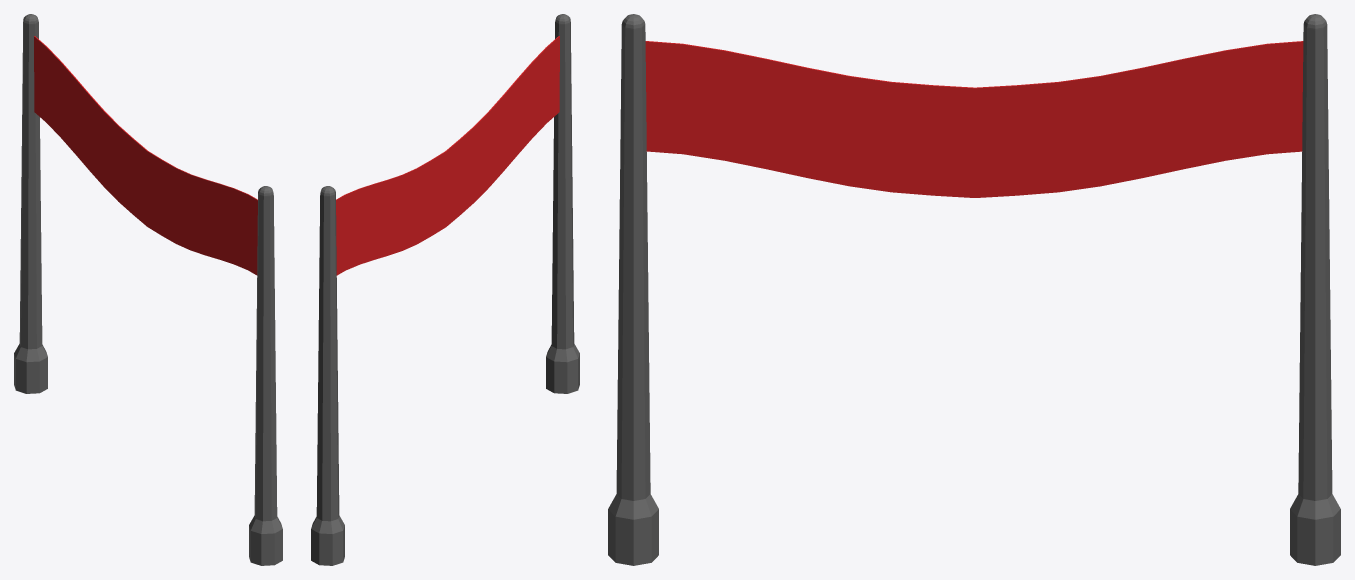
Rendered from RedLine.fbx.
3 renders of one model, left to right at view 1: azimuth 30°, elevation 25°; view 2: azimuth 150°, elevation 25°; view 3: azimuth 270°, elevation 25°, orthographic. The views are drawn at different scales.
Parts seen in each view (by area): view 1: RedLine; view 2: RedLine; view 3: RedLine.
Boxes of the visible parts, x1,y1,x2,y2 form: RedLine: (14,14,282,565); RedLine: (311,14,579,565); RedLine: (608,14,1340,565).
Size of the model in its own units: 101 by 1175 by 1446.
